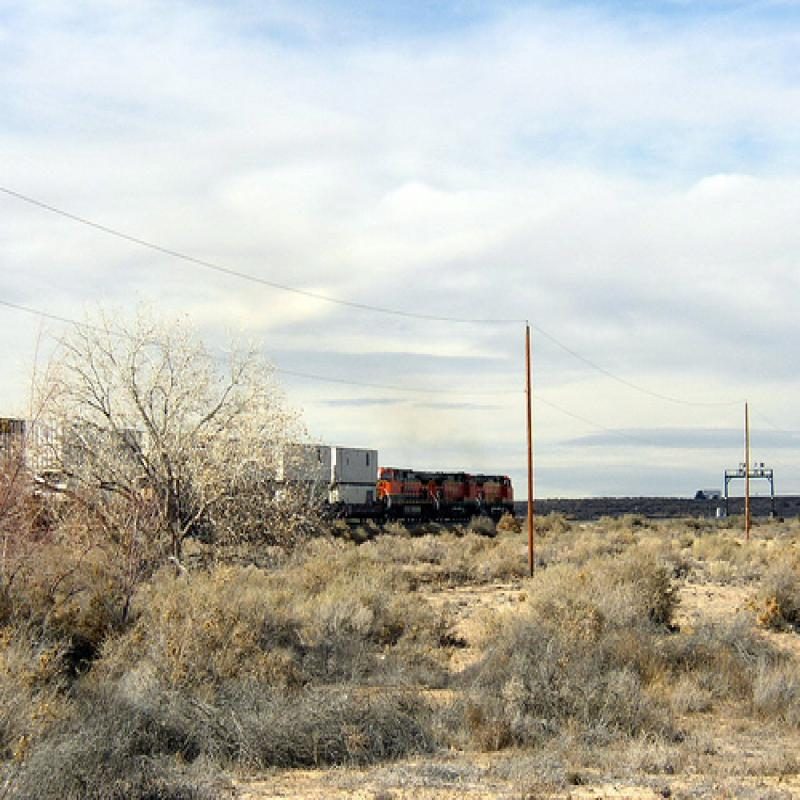train: (1, 417, 511, 530)
